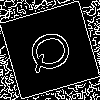Q: (25, 25, 82, 76)
